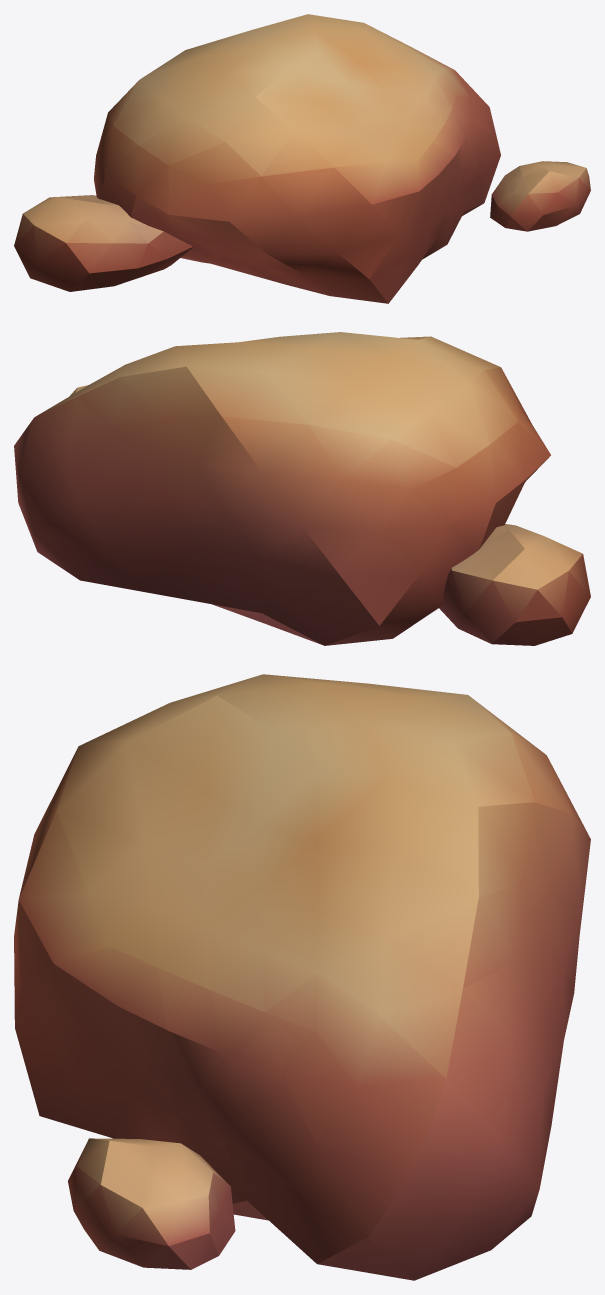
The model's file is amber_rock_chunk_a.glb.
The picture shows the model from 3 angles, top to bottom: view 1: azimuth 30°, elevation 25°; view 2: azimuth 150°, elevation 25°; view 3: azimuth 270°, elevation 25°; orthographic projection. The views are drawn at different scales.
Parts seen in each view (by area): view 1: amber_rock_chunk_a; view 2: amber_rock_chunk_a; view 3: amber_rock_chunk_a.
Boxes of the visible parts, x1,y1,x2,y2 form: amber_rock_chunk_a: (14, 14, 590, 303); amber_rock_chunk_a: (14, 332, 590, 645); amber_rock_chunk_a: (14, 674, 590, 1280).
Size of the model in its own units: 2.69 by 1.05 by 1.48.
